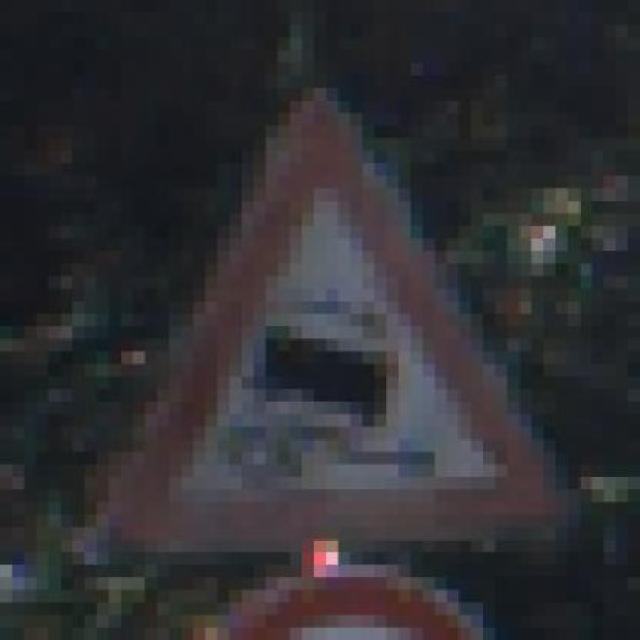Slippery Road Ahead: (81, 87, 564, 576)
